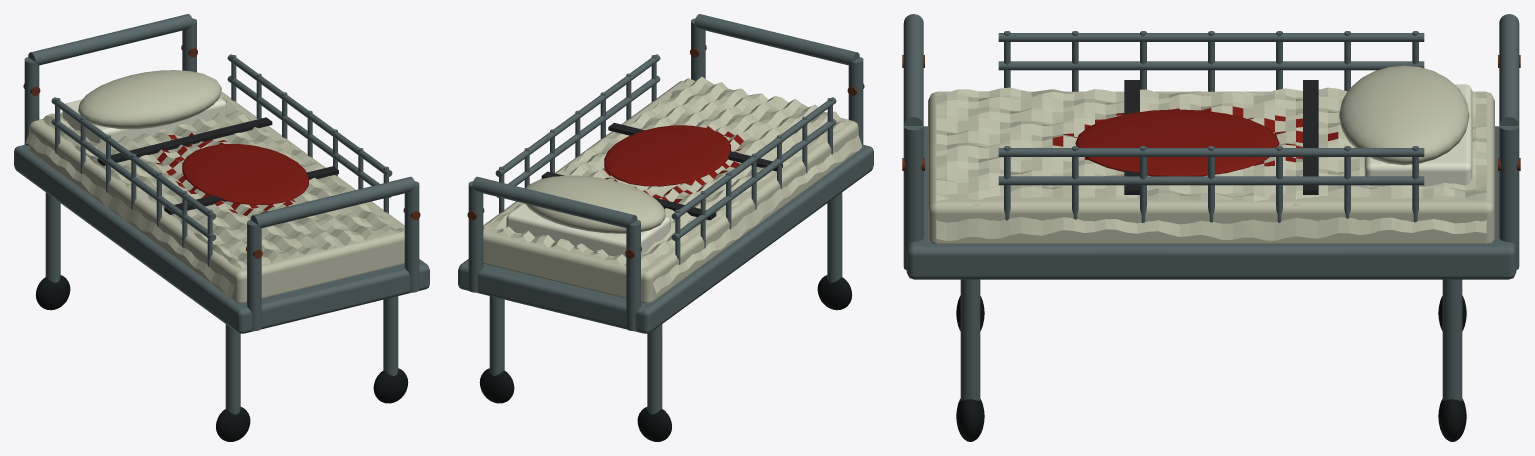
The model's file is Bed.obj.
3 views of the same model, side by side, from view 1: azimuth 30°, elevation 25°; view 2: azimuth 150°, elevation 25°; view 3: azimuth 270°, elevation 25° (orthographic). The views are drawn at different scales.
Visible parts, largest first — view 1: Bed; view 2: Bed; view 3: Bed.
Part boxes in pixels (x1,y1,x2,y2): Bed: [14, 14, 429, 441]; Bed: [458, 14, 873, 441]; Bed: [902, 14, 1520, 441].
Size of the model in its own units: 1.05 by 1.25 by 2.18.
